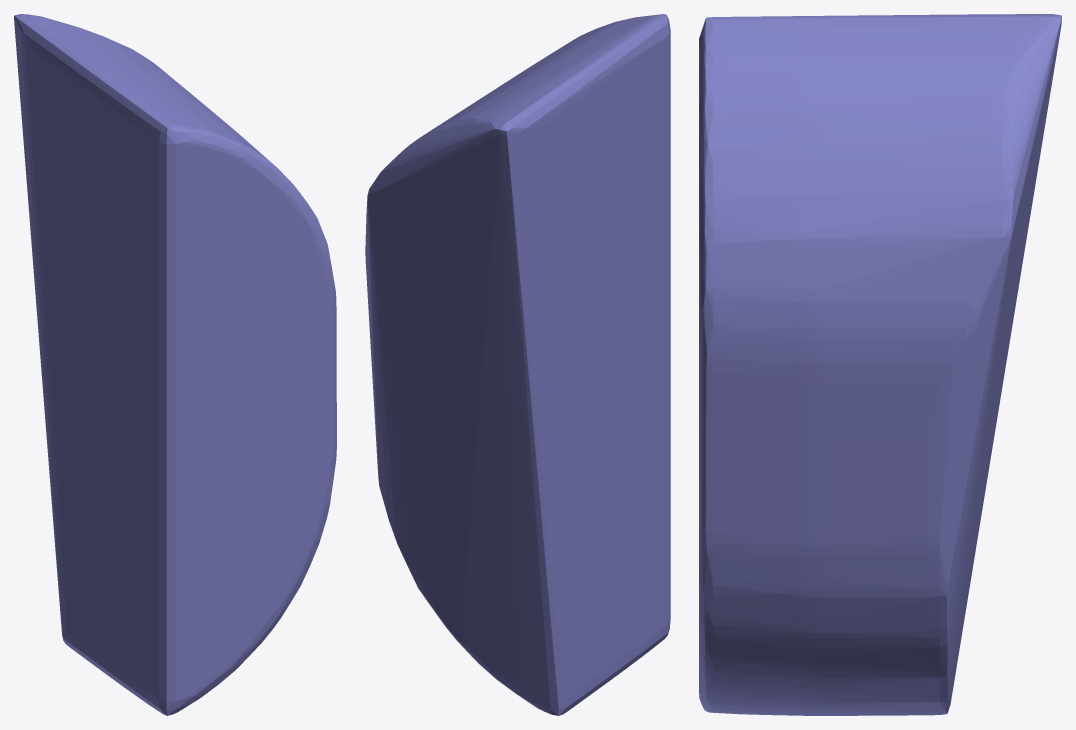
File: left_f_distal_pst_part_12.obj
3 renders of one model, left to right at view 1: azimuth 30°, elevation 25°; view 2: azimuth 150°, elevation 25°; view 3: azimuth 270°, elevation 25°, orthographic. The views are drawn at different scales.
Bounding box in the file's own units: 4.54 × 14.29 × 6.77.
